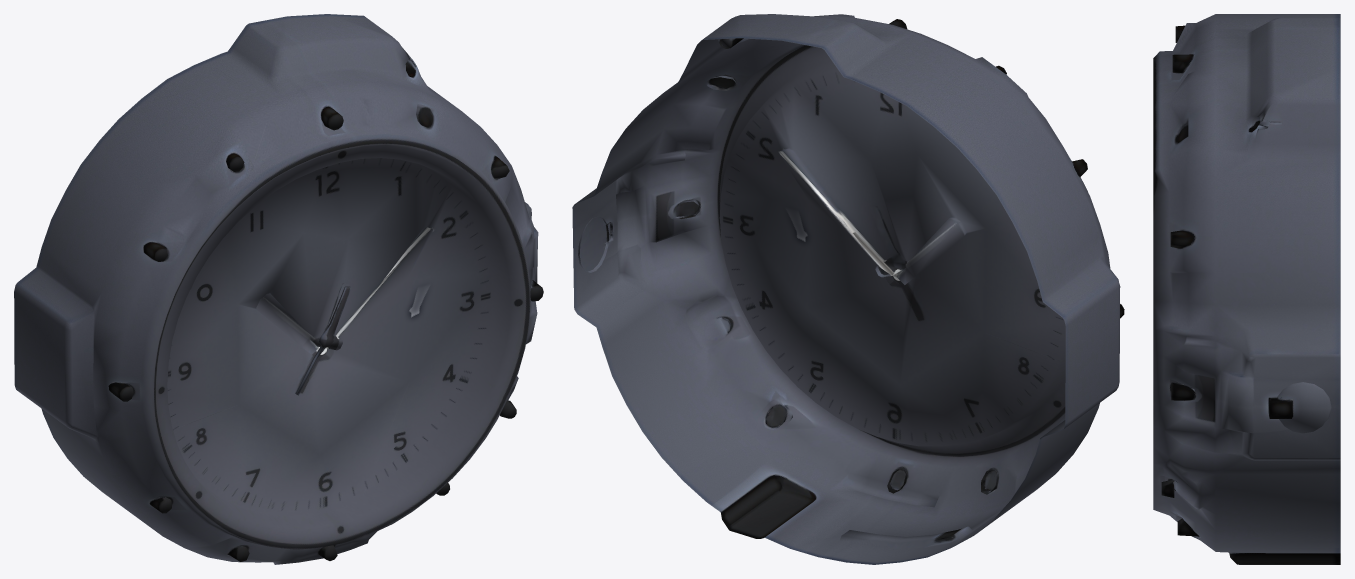
File: Wall Clock.glb
3 renders of one model, left to right at view 1: azimuth 30°, elevation 25°; view 2: azimuth 150°, elevation 25°; view 3: azimuth 270°, elevation 25°, orthographic. The views are drawn at different scales.
Visible parts, largest first — view 1: tripo_node_3664e713-fa94-4c01-b45d-2c6eff01c89c; view 2: tripo_node_3664e713-fa94-4c01-b45d-2c6eff01c89c; view 3: tripo_node_3664e713-fa94-4c01-b45d-2c6eff01c89c.
Part boxes in pixels (bbox=[...]): tripo_node_3664e713-fa94-4c01-b45d-2c6eff01c89c: bbox=[14, 14, 543, 564]; tripo_node_3664e713-fa94-4c01-b45d-2c6eff01c89c: bbox=[572, 14, 1124, 564]; tripo_node_3664e713-fa94-4c01-b45d-2c6eff01c89c: bbox=[1153, 14, 1340, 564].
Bounding box in the file's own units: 0.9995 × 0.978 × 0.3267.
1 material, 1 textured.
